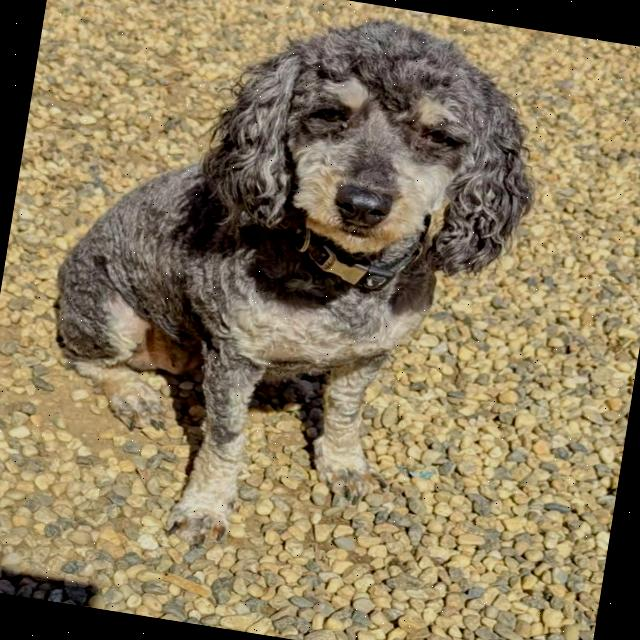Poodle_dog: (166, 0, 565, 307)
